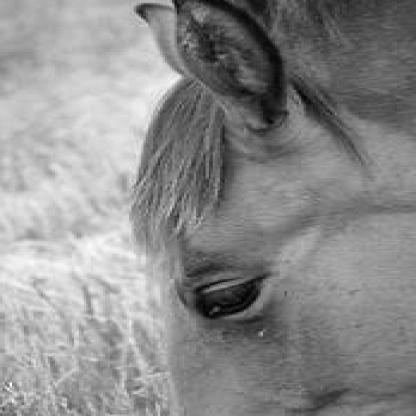horse: (129, 0, 414, 415)
